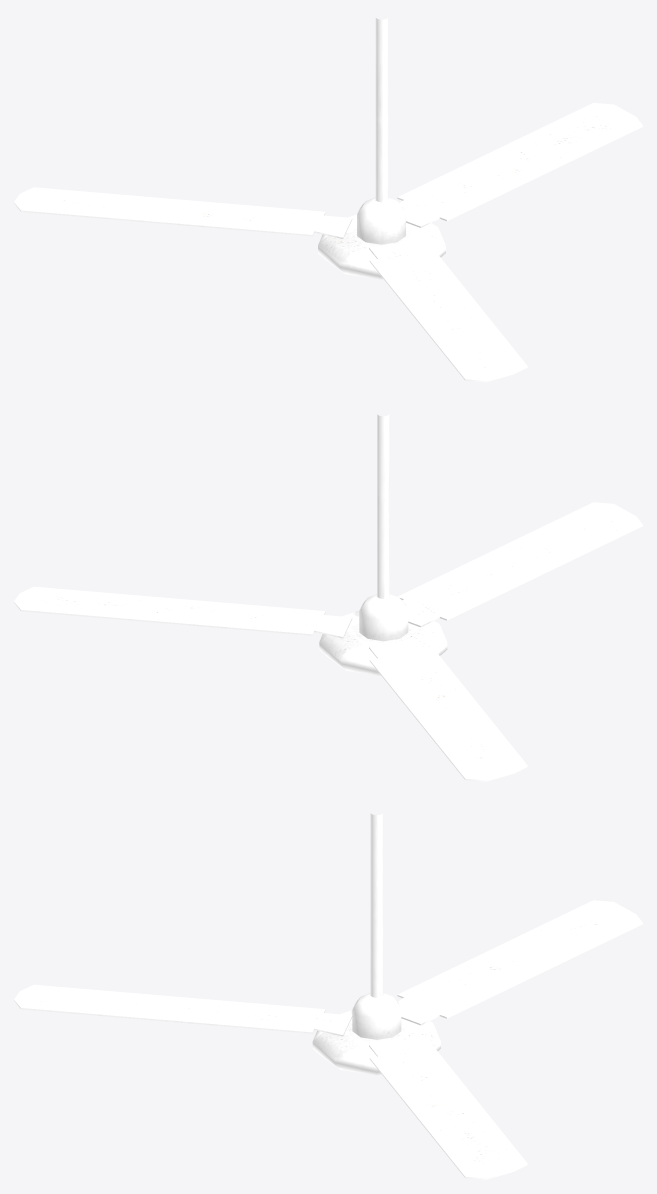
File: ventilador.gltf
The picture shows the model from 3 angles, top to bottom: view 1: azimuth 30°, elevation 25°; view 2: azimuth 150°, elevation 25°; view 3: azimuth 270°, elevation 25°; orthographic projection.
Visible parts, largest first — view 1: fanBase1_lambert1_0.016, fanBase1_lambert1_0.027, fanBase1_lambert1_0.037, fanBase1_lambert1_0.005, fanBase1_lambert1_0.013, fanBase1_lambert1_0.012, fanBase1_lambert1_0.007, fanBase1_lambert1_0.008, fanBase1_lambert1_0.036; view 2: fanBase1_lambert1_0.027, fanBase1_lambert1_0.037, fanBase1_lambert1_0.016, fanBase1_lambert1_0.005, fanBase1_lambert1_0.011, fanBase1_lambert1_0.012, fanBase1_lambert1_0.007, fanBase1_lambert1_0.006, fanBase1_lambert1_0.015, fanBase1_lambert1_0.001; view 3: fanBase1_lambert1_0.037, fanBase1_lambert1_0.016, fanBase1_lambert1_0.027, fanBase1_lambert1_0.005, fanBase1_lambert1_0.014, fanBase1_lambert1_0.009, fanBase1_lambert1_0.026, fanBase1_lambert1_0.013, fanBase1_lambert1_0.011.
Part boxes in pixels (x1,y1,x2,y2): fanBase1_lambert1_0.016: (397,103,642,226); fanBase1_lambert1_0.027: (369,241,527,380); fanBase1_lambert1_0.037: (14,187,352,237); fanBase1_lambert1_0.005: (318,214,445,267); fanBase1_lambert1_0.013: (382,18,388,202); fanBase1_lambert1_0.012: (375,18,381,202); fanBase1_lambert1_0.007: (357,201,381,244); fanBase1_lambert1_0.008: (381,206,405,244); fanBase1_lambert1_0.036: (21,210,312,236); fanBase1_lambert1_0.027: (397,502,642,625); fanBase1_lambert1_0.037: (369,640,527,780); fanBase1_lambert1_0.016: (14,586,352,636); fanBase1_lambert1_0.005: (319,610,447,662); fanBase1_lambert1_0.011: (377,414,383,598); fanBase1_lambert1_0.012: (383,414,389,598); fanBase1_lambert1_0.007: (383,598,408,641); fanBase1_lambert1_0.006: (359,603,383,641); fanBase1_lambert1_0.015: (21,610,312,635); fanBase1_lambert1_0.001: (319,642,380,675); fanBase1_lambert1_0.037: (397,900,642,1023); fanBase1_lambert1_0.016: (369,1038,527,1178); fanBase1_lambert1_0.027: (14,984,352,1034); fanBase1_lambert1_0.005: (313,1010,440,1063); fanBase1_lambert1_0.014: (372,814,380,997); fanBase1_lambert1_0.009: (360,1006,392,1039); fanBase1_lambert1_0.026: (21,1008,312,1033); fanBase1_lambert1_0.013: (370,813,372,996); fanBase1_lambert1_0.011: (381,813,383,996).
Size of the model in its own units: 103 by 43.93 by 100.
1 material, 1 textured.
